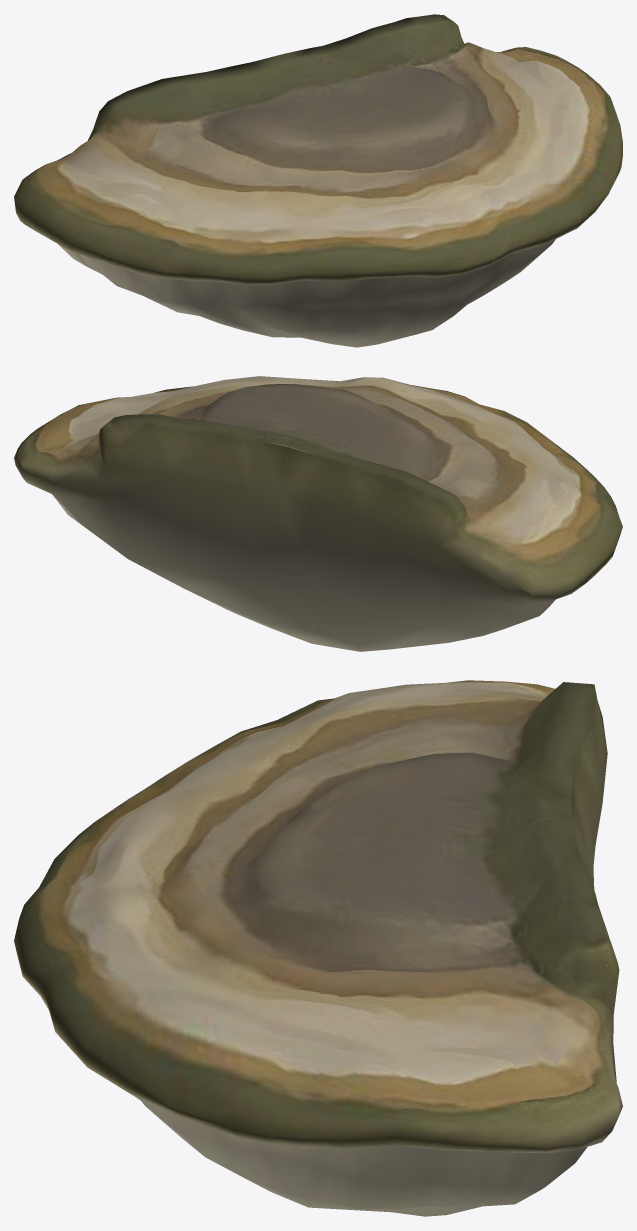
Rendered from forest-shelf.glb.
The picture shows the model from 3 angles, top to bottom: view 1: azimuth 30°, elevation 25°; view 2: azimuth 150°, elevation 25°; view 3: azimuth 270°, elevation 25°; orthographic projection. The views are drawn at different scales.
Parts seen in each view (by area): view 1: forest-shelf; view 2: forest-shelf; view 3: forest-shelf.
Boxes of the visible parts, <box> form: forest-shelf: <box>14,14,622,347</box>; forest-shelf: <box>14,376,622,651</box>; forest-shelf: <box>14,680,622,1216</box>.
Bounding box in the file's own units: 0.9995 × 0.4048 × 0.5845.
1 material, 1 textured.
